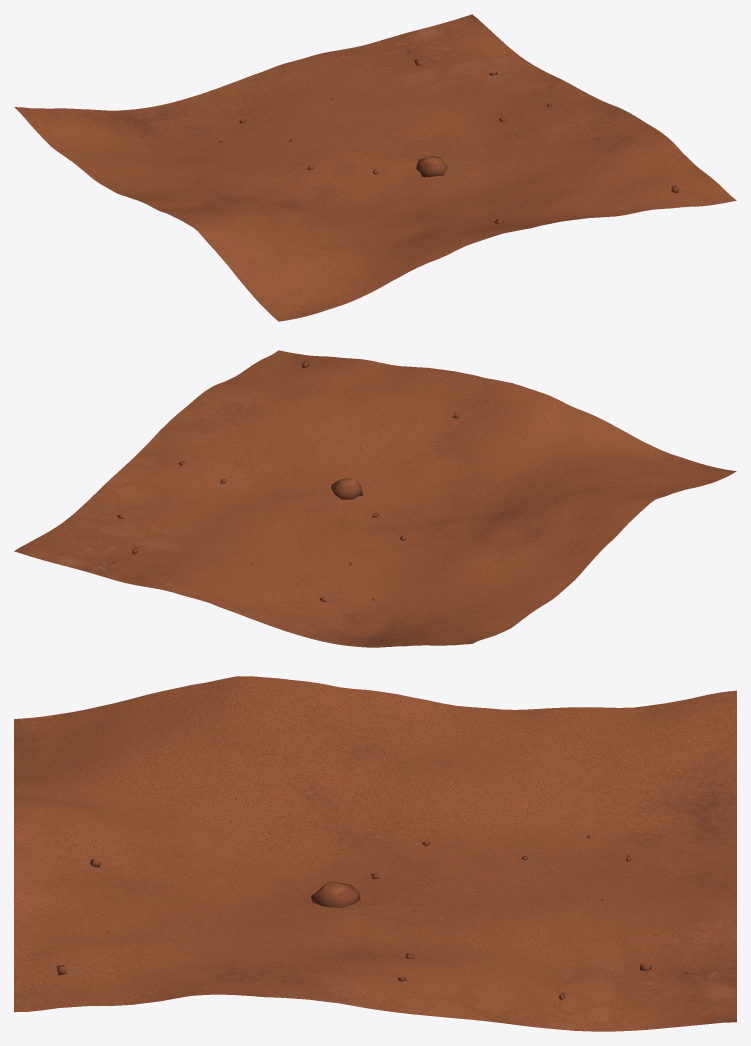
File: mars_surface-1.glb
The picture shows the model from 3 angles, top to bottom: view 1: azimuth 30°, elevation 25°; view 2: azimuth 150°, elevation 25°; view 3: azimuth 270°, elevation 25°; orthographic projection. The views are drawn at different scales.
Visible parts, largest first — view 1: mars_surface; view 2: mars_surface; view 3: mars_surface.
Boxes of the visible parts, <box> form: mars_surface: <box>14,14,736,321</box>; mars_surface: <box>14,350,736,647</box>; mars_surface: <box>14,676,736,1031</box>.
Size of the model in its own units: 5 by 0.5 by 5.
Materials: 1 (1 with a texture image).
